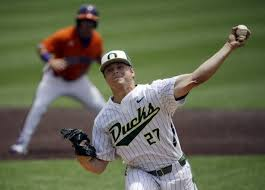baseball: (234, 24, 248, 40)
baseball player: (60, 24, 250, 189), (10, 5, 108, 156)
